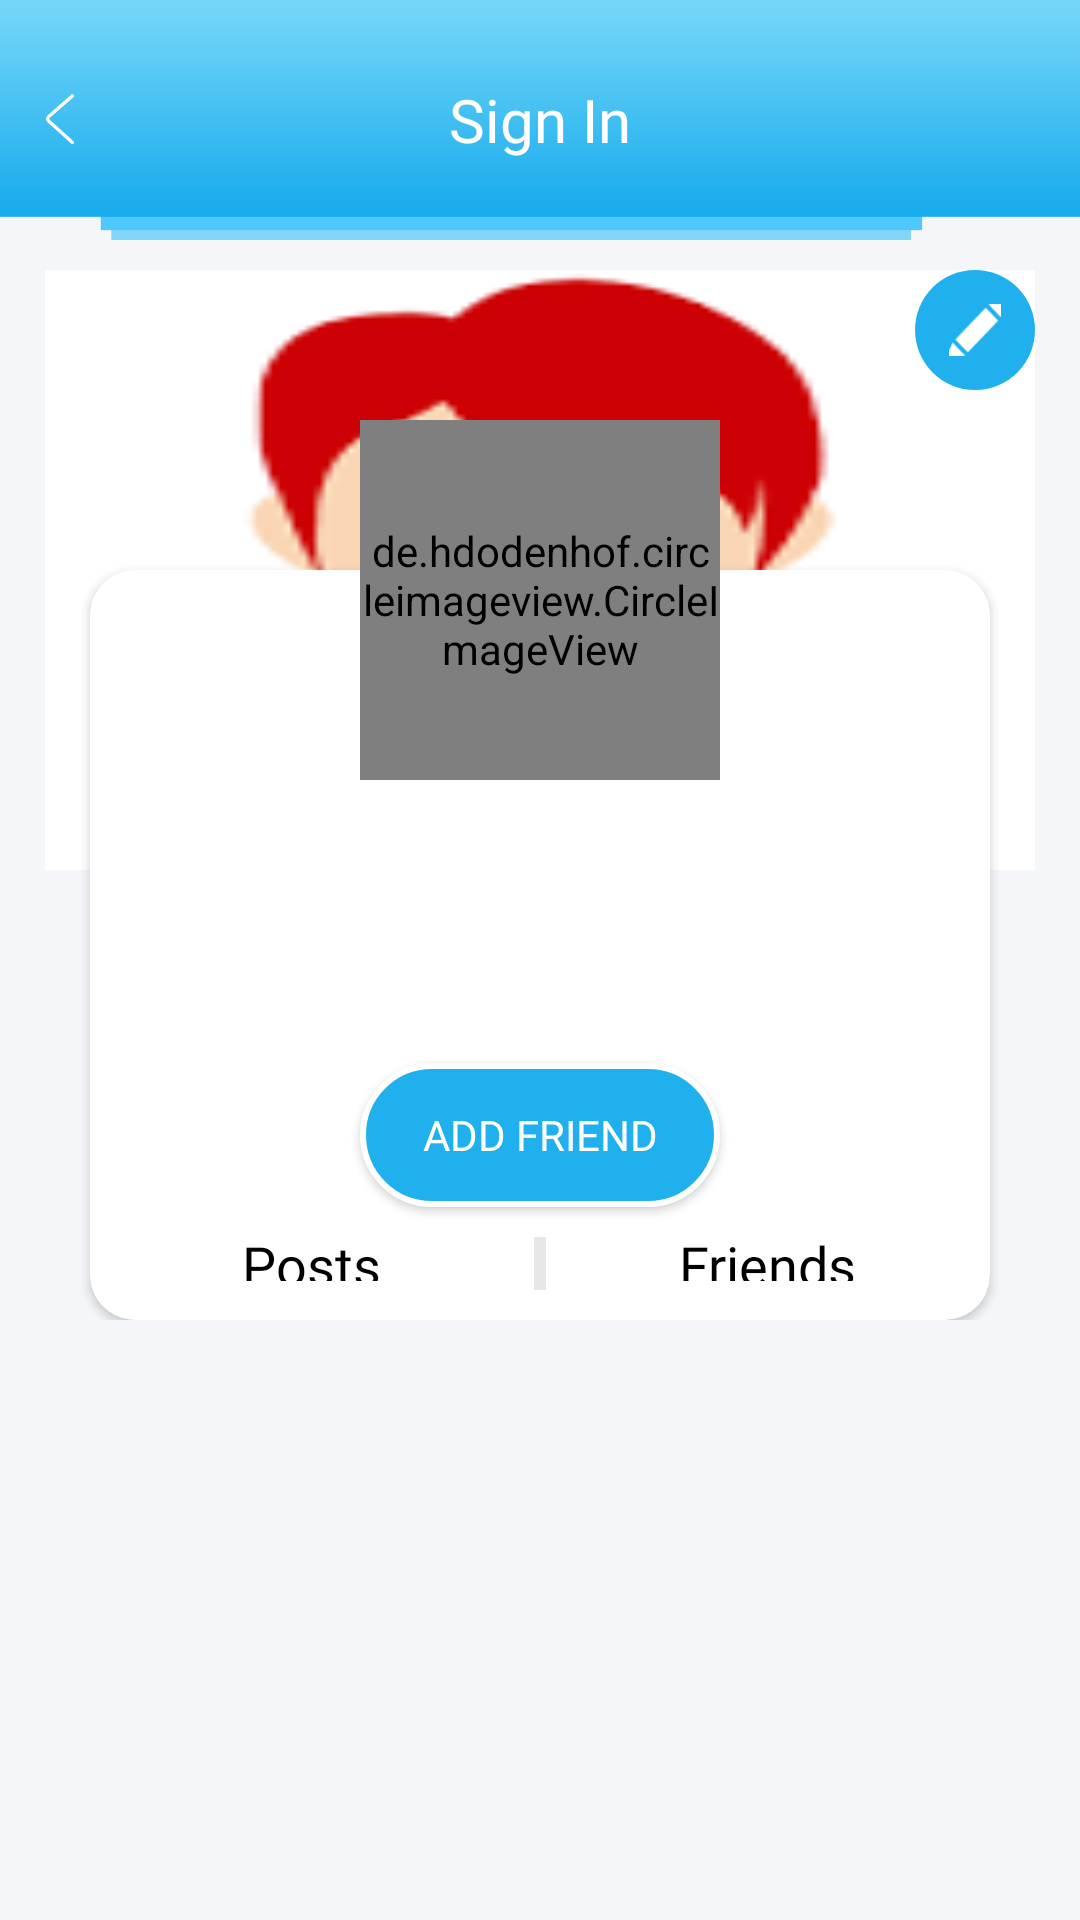

Icon click points for this 1080 × 1920 phone screenshot, format (x,y):
back: (60,122)
edit: (975,330)
